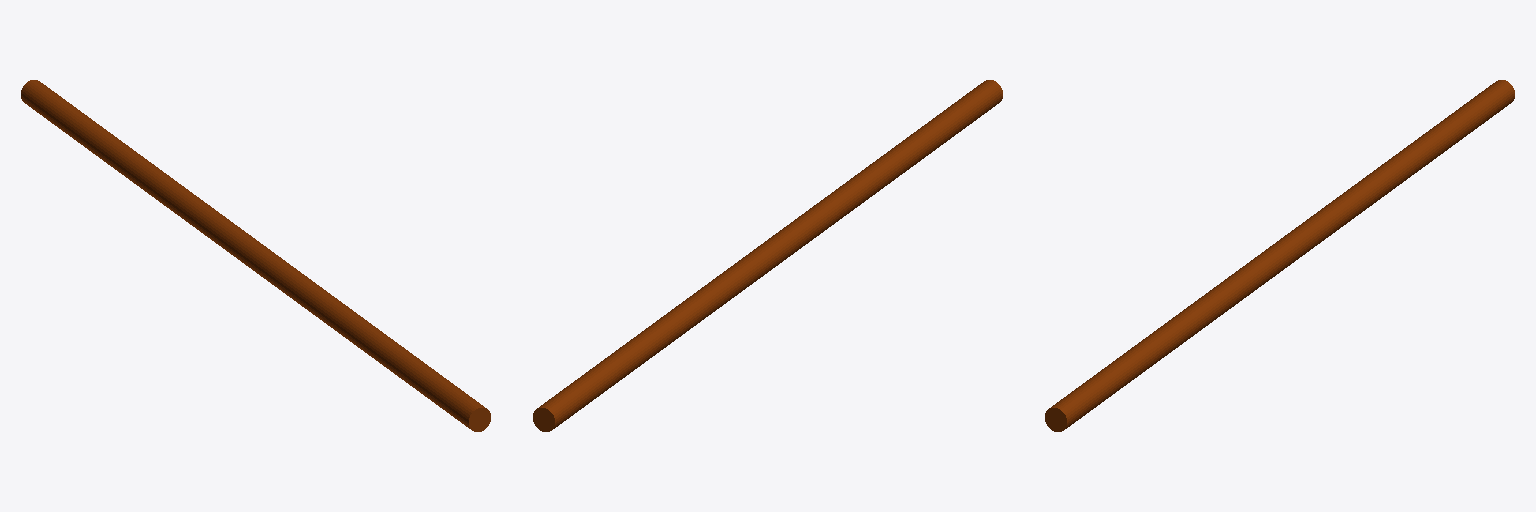
robot.urdf — cylinder:
<?xml version="1.0" ?>
<!-- =================================================================================== -->
<!-- |    This document was autogenerated by xacro from cylinder.xacro                 | -->
<!-- |    EDITING THIS FILE BY HAND IS NOT RECOMMENDED                                 | -->
<!-- =================================================================================== -->
<robot name="cylinder">
  <link name="world"/>
  <link name="base">
    <visual>
      <origin rpy="1.57079633 0 0" xyz="0 0 0"/>
      <geometry>
        <cylinder length="7.07106781185" radius="0.105"/>
      </geometry>
      <material name="cylinder_material">
        <color rgba="0.545 0.271 0.075 1.0"/>
        <texture filename="../textures/tree_bark.jpg"/>
      </material>
    </visual>
    <collision>
      <origin rpy="1.57079633 0 0" xyz="0 0 0"/>
      <geometry>
        <cylinder length="7.07106781185" radius="0.105"/>
      </geometry>
    </collision>
    <inertial>
      <origin rpy="0 0 0" xyz="0 0 0"/>
      <mass value="1"/>
      <inertia ixx="4.169422916648428" ixy="0.0" ixz="0.0" iyy="4.169422916648428" iyz="0.0" izz="24.999999999890573"/>
    </inertial>
  </link>
  <joint name="base_joint" type="fixed">
    <parent link="world"/>
    <child link="base"/>
    <origin rpy="0 0 0" xyz="0.0 0.0 0.0"/>
  </joint>
</robot>

--- What the picture shows (computed from the rendered views, not written in the file) ---
The picture shows the robot from 3 angles, left to right: view 1: azimuth 30°, elevation 25°; view 2: azimuth 150°, elevation 25°; view 3: azimuth 330°, elevation 25°; orthographic projection.
Robot: cylinder — 2 links, 1 joints (1 fixed); root link world; default pose: every joint at zero.
Visible links, largest first — view 1: base; view 2: base; view 3: base.
Boxes of the visible links, bbox=[...] form: base: bbox=[21, 80, 490, 431]; base: bbox=[533, 80, 1002, 431]; base: bbox=[1045, 80, 1514, 431].
Size in the robot's own frame: 0.21 by 7.07 by 0.21 metres.
Geometry: primitives only (box / cylinder / sphere), no mesh files.
